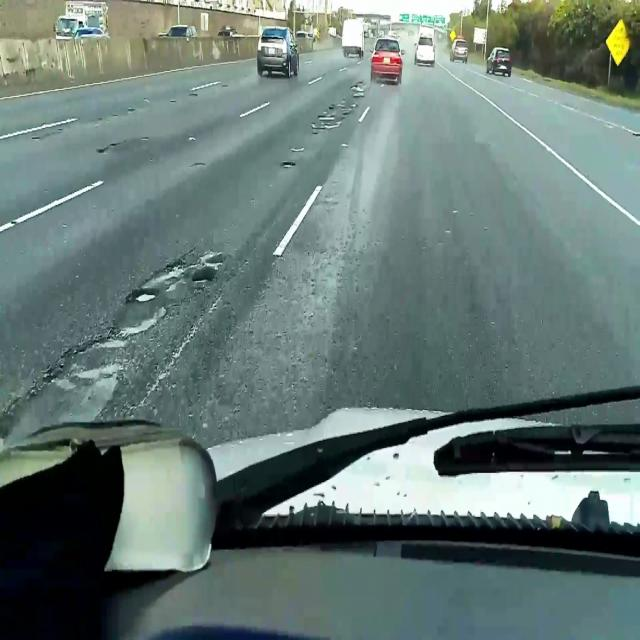Pothole: (189, 250, 222, 288), (124, 282, 160, 310), (93, 138, 127, 158), (350, 83, 365, 100), (316, 113, 337, 121), (282, 161, 294, 169)
